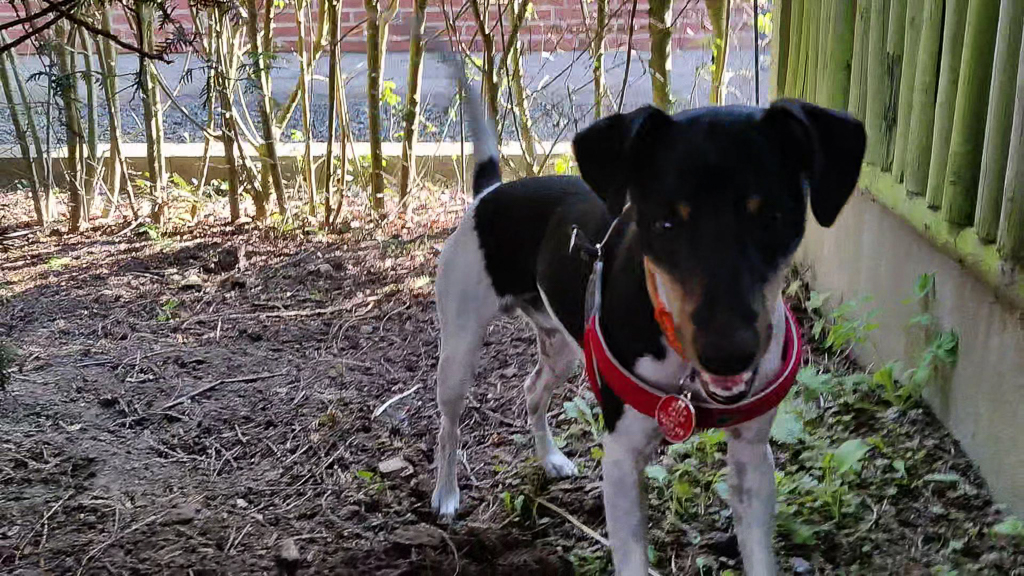Dog: (378, 9, 879, 576)
